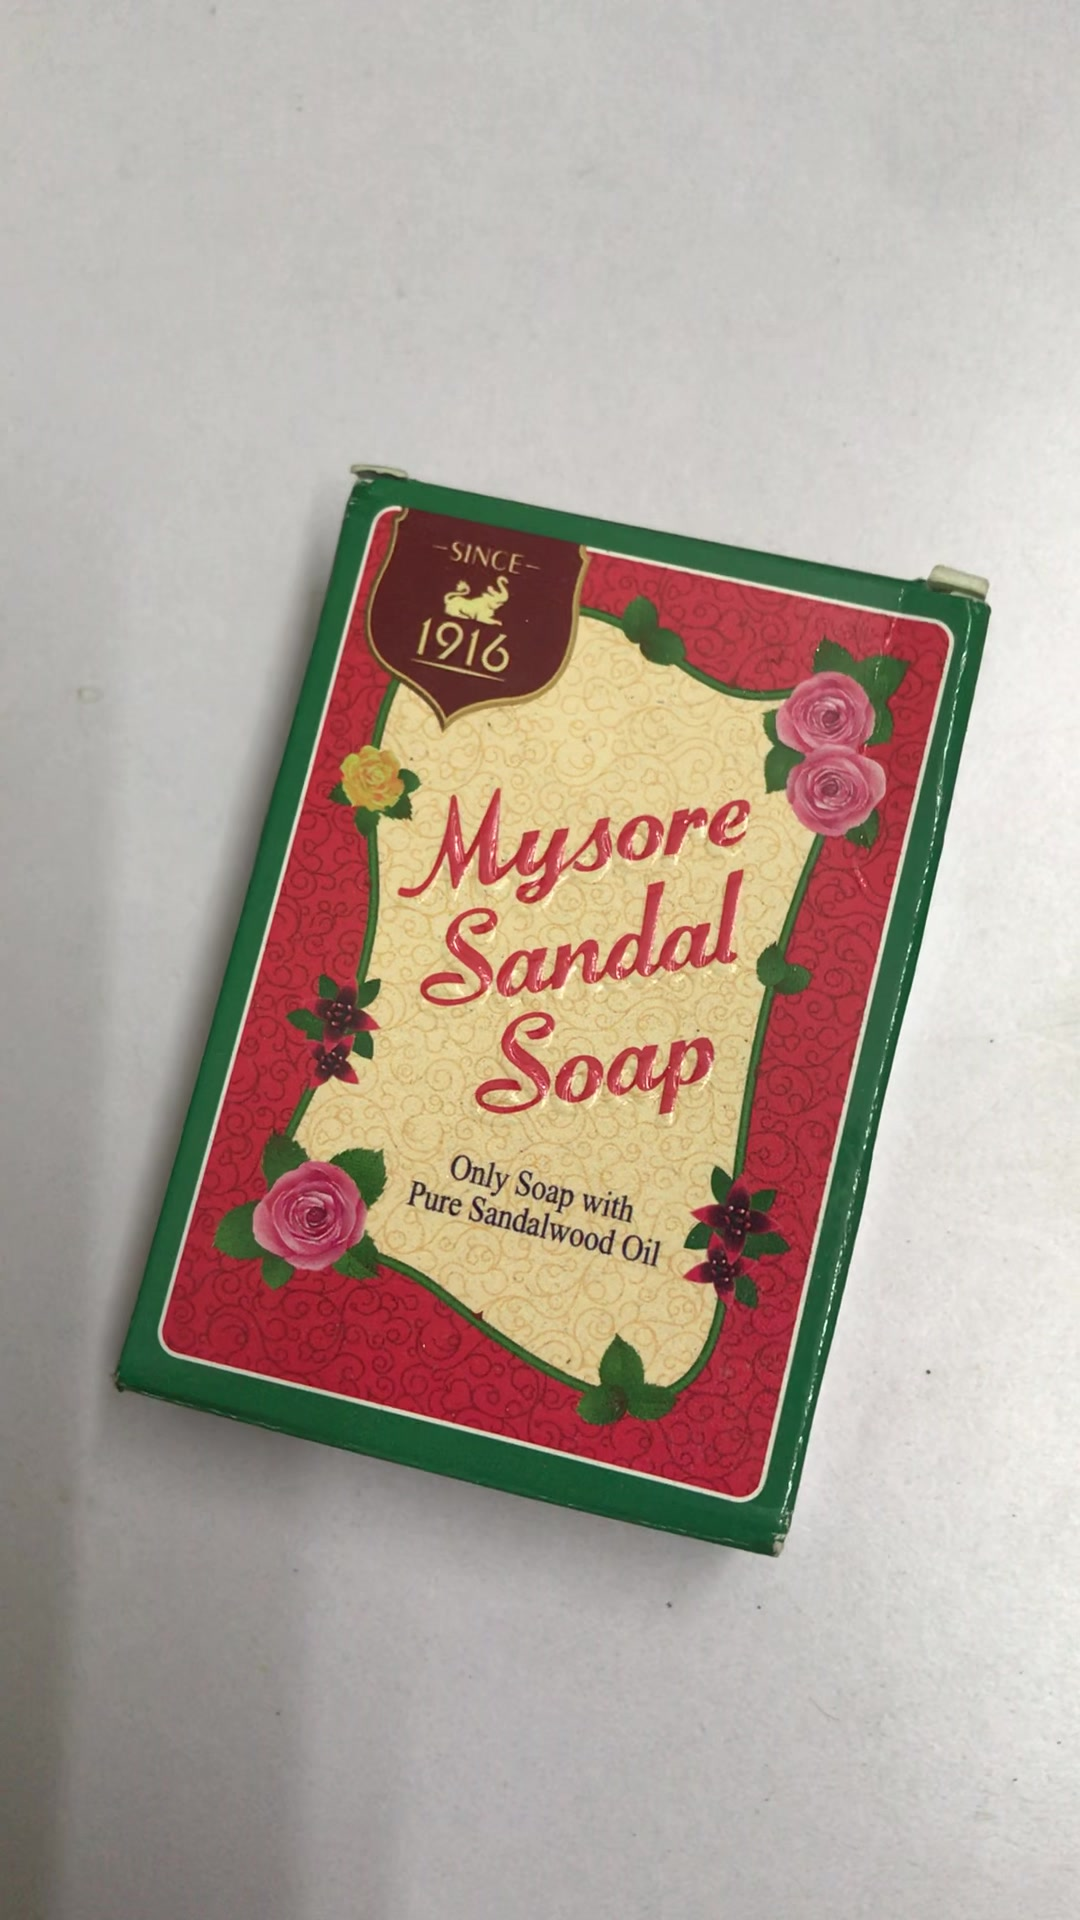mysore sandal soap: (123, 463, 988, 1556)
